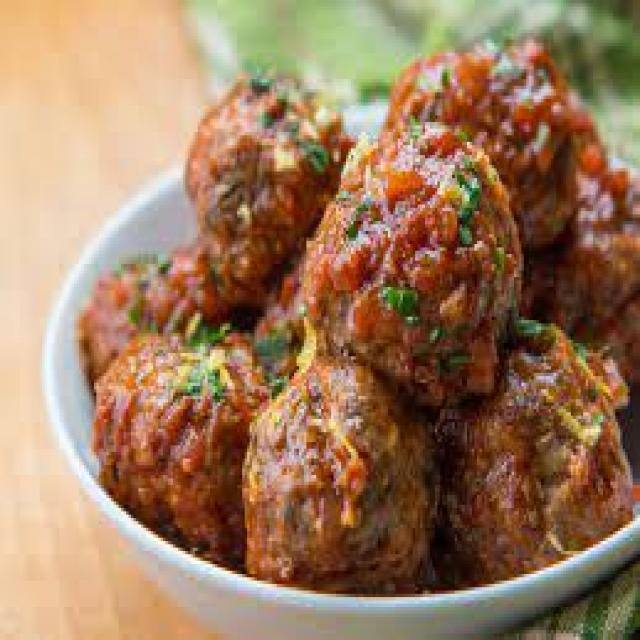Meatball: (301, 116, 533, 407), (242, 354, 444, 597), (446, 332, 628, 564), (90, 311, 282, 527)
